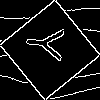Y: (25, 25, 74, 64)
